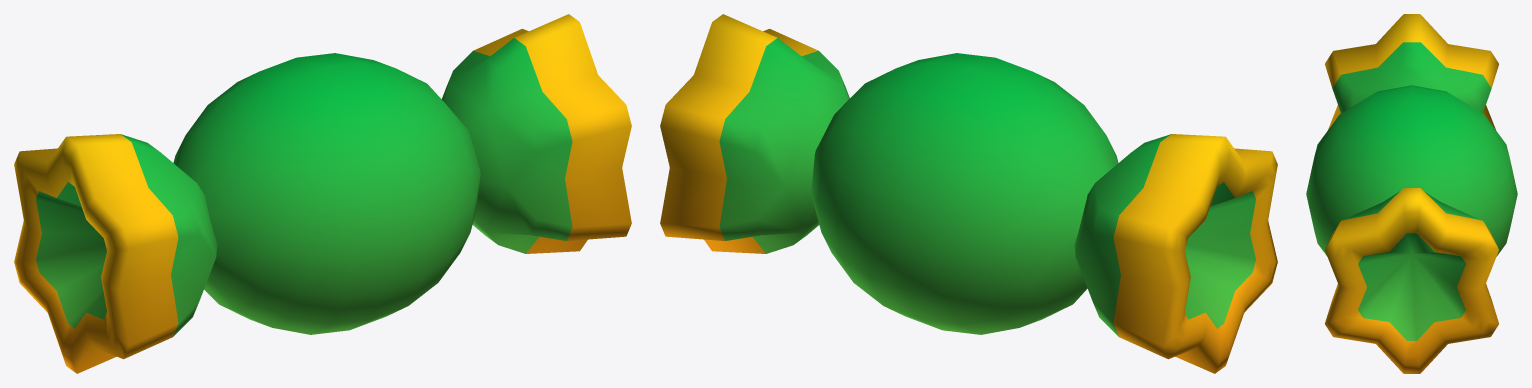
The model's file is candy_016.glb.
3 renders of one model, left to right at view 1: azimuth 30°, elevation 25°; view 2: azimuth 150°, elevation 25°; view 3: azimuth 270°, elevation 25°, orthographic. The views are drawn at different scales.
Visible parts, largest first — view 1: candy_016; view 2: candy_016; view 3: candy_016.
Boxes of the visible parts, x1,y1,x2,y2 form: candy_016: (14,14,631,373); candy_016: (660,14,1277,373); candy_016: (1306,14,1517,373).
Bounding box in the file's own units: 4.55 × 2.15 × 2.15.
Materials: 1 (1 with a texture image).
